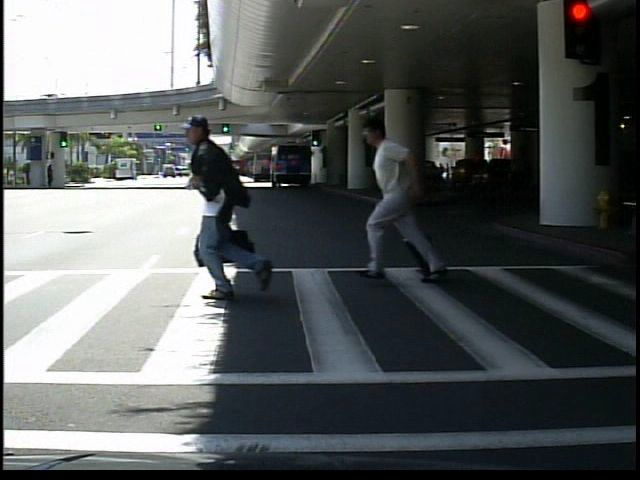person: (182, 115, 268, 303), (371, 112, 435, 286)
